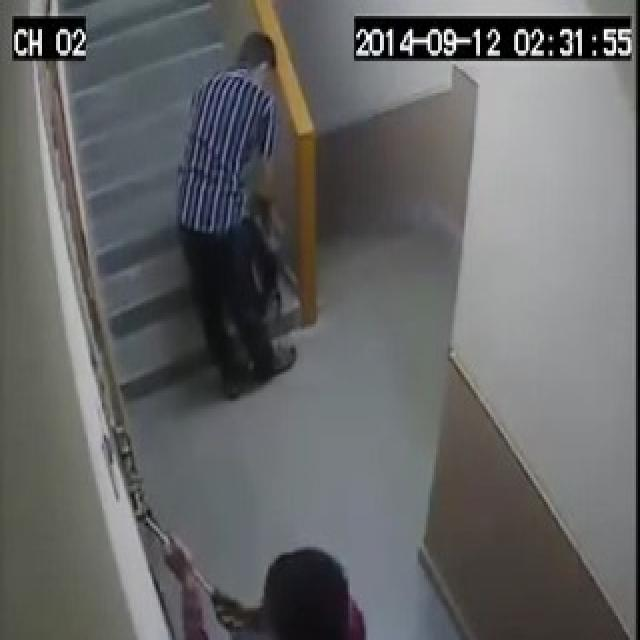thief: (177, 19, 305, 402), (154, 534, 375, 640)
